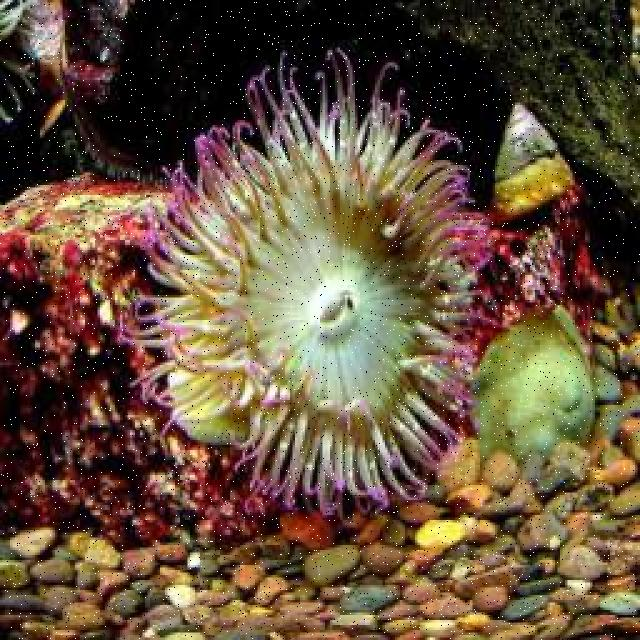reefs: (118, 47, 495, 519), (474, 305, 594, 484)
